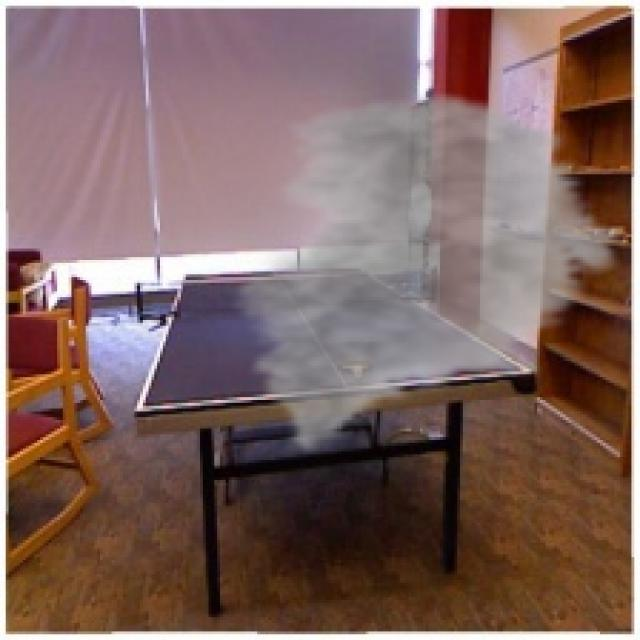smoke: (223, 89, 634, 457)
